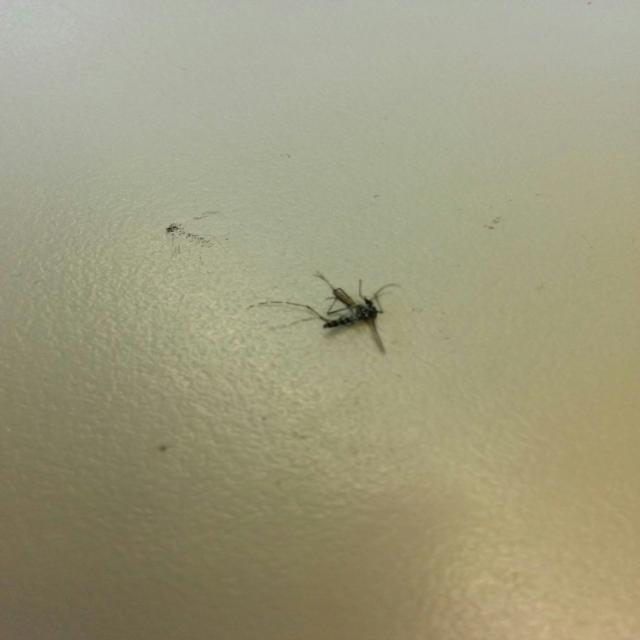albopictus: (247, 261, 412, 355)
